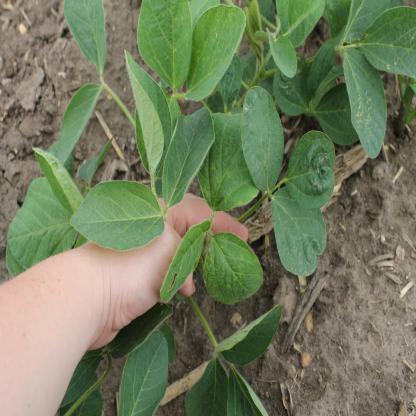Soyabean leaf: (67, 180, 165, 252), (161, 104, 217, 213), (271, 186, 327, 279), (343, 46, 387, 163), (137, 0, 193, 88), (240, 85, 285, 192), (202, 233, 264, 306), (362, 3, 416, 83), (284, 130, 335, 208)
